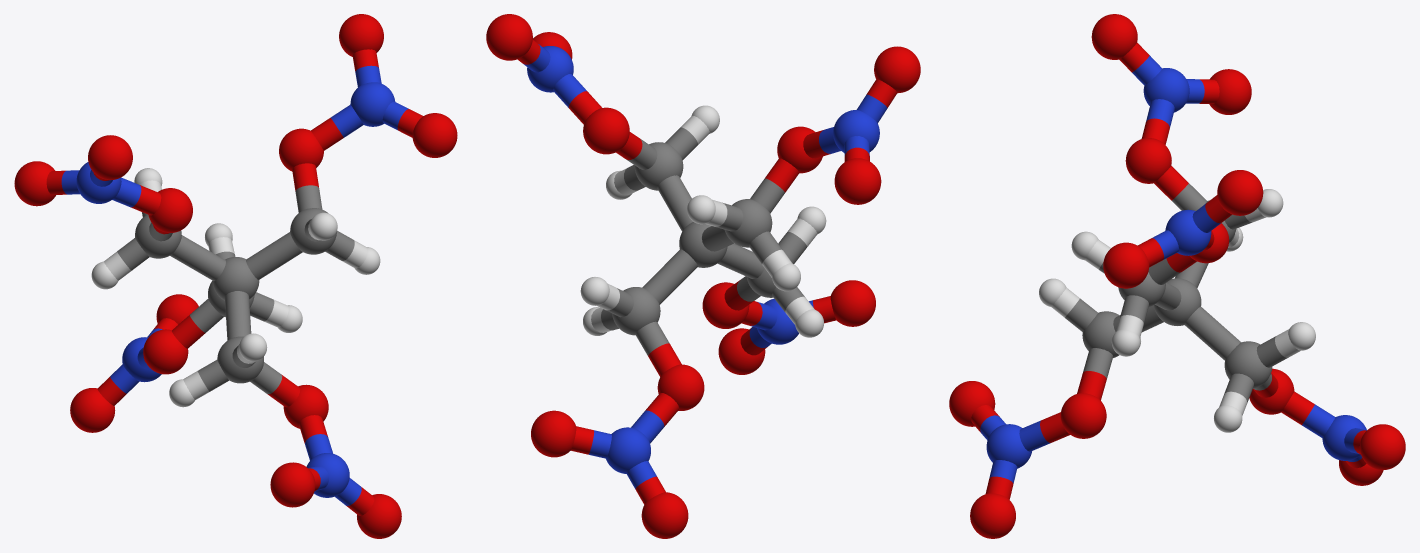
File: config.glb
The picture shows the model from 3 angles, left to right: view 1: azimuth 30°, elevation 25°; view 2: azimuth 150°, elevation 25°; view 3: azimuth 270°, elevation 25°; orthographic projection. The views are drawn at different scales.
Parts seen in each view (by area): view 1: mesh_0, mesh_1; view 2: mesh_0, mesh_1; view 3: mesh_0, mesh_1.
Boxes of the visible parts, x1=… form: mesh_0: x1=14, y1=14, x2=457, y2=538; mesh_1: x1=46, y1=49, x2=423, y2=515; mesh_0: x1=486, y1=14, x2=920, y2=538; mesh_1: x1=517, y1=39, x2=897, y2=504; mesh_0: x1=949, y1=14, x2=1405, y2=538; mesh_1: x1=971, y1=42, x2=1366, y2=499.
Bounding box in the file's own units: 7.33 × 7.38 × 7.33.
